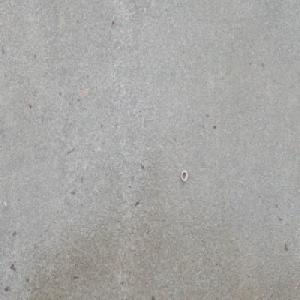Nut: (180, 169, 188, 182)
